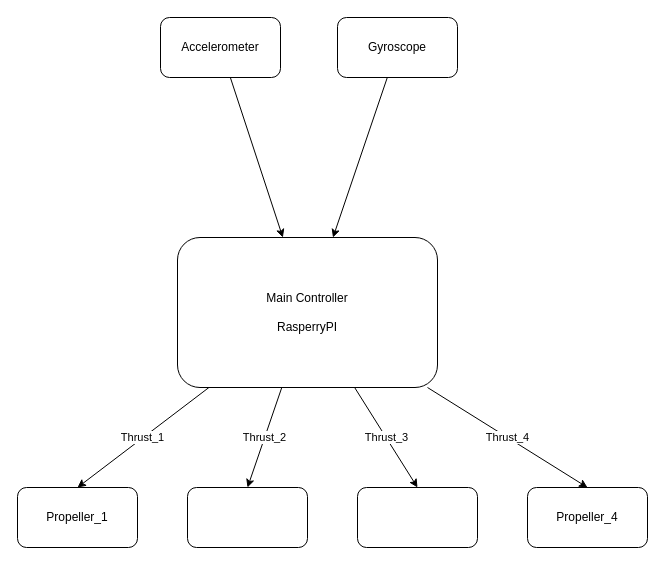
The diagram is 665 pixels wide and 565 high, and some of its shapes have lost their labels. The shapes that lost their labels are listed below. From the top down, each one's centre as x and y in pixels, then its label:
point (247, 517): Proppeller_2
point (417, 517): Propeller_3
